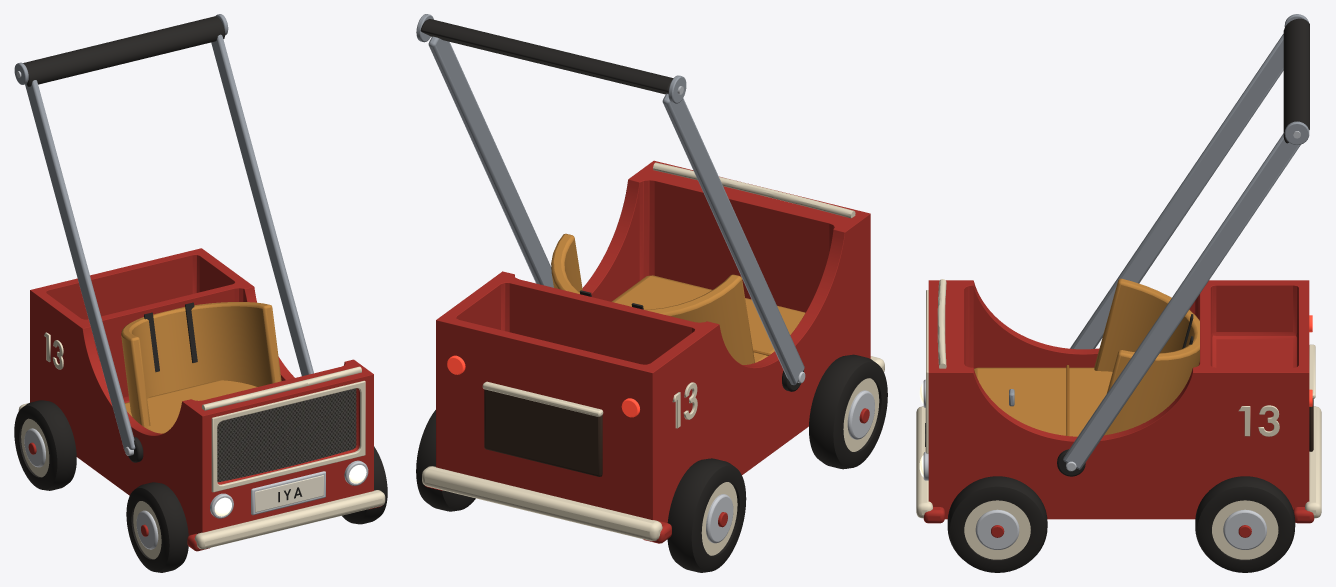
The model's file is baby-stroller.glb.
3 renders of one model, left to right at view 1: azimuth 30°, elevation 25°; view 2: azimuth 150°, elevation 25°; view 3: azimuth 270°, elevation 25°, orthographic. The views are drawn at different scales.
Parts seen in each view (by area): view 1: body, back, axle, bumper, meshpanel, tyre, topbar, bolt, platefield, crotchstrap, lamp; view 2: body, axle, tyre, bumper, back, pocket, topbar, bolt; view 3: body, axle, back, tyre, bumper, bolt, topbar.
Boxes of the visible parts, left/top/right/bottom form: body: left=28, top=248, right=382, bottom=551; back: left=121, top=302, right=281, bottom=433; axle: left=14, top=14, right=313, bottom=450; bumper: left=18, top=332, right=385, bottom=559; meshpanel: left=217, top=388, right=356, bottom=482; tyre: left=14, top=400, right=387, bottom=572; topbar: left=23, top=16, right=225, bottom=86; bolt: left=16, top=71, right=368, bottom=549; platefield: left=255, top=475, right=323, bottom=512; crotchstrap: left=128, top=302, right=197, bottom=462; lamp: left=214, top=465, right=366, bottom=516; body: left=424, top=160, right=870, bottom=543; axle: left=416, top=14, right=804, bottom=384; tyre: left=416, top=354, right=887, bottom=572; bumper: left=422, top=162, right=884, bottom=555; back: left=551, top=233, right=805, bottom=364; pocket: left=484, top=389, right=602, bottom=476; topbar: left=420, top=19, right=673, bottom=94; bolt: left=677, top=86, right=874, bottom=543; body: left=923, top=280, right=1314, bottom=537; axle: left=1009, top=14, right=1309, bottom=469; back: left=974, top=278, right=1199, bottom=436; tyre: left=947, top=476, right=1295, bottom=572; bumper: left=916, top=279, right=1321, bottom=559; bolt: left=923, top=131, right=1300, bottom=549; topbar: left=1283, top=18, right=1309, bottom=143.
Bounding box in the file's own units: 0.608 × 1.04 × 0.851.
14 materials, 1 textured.
